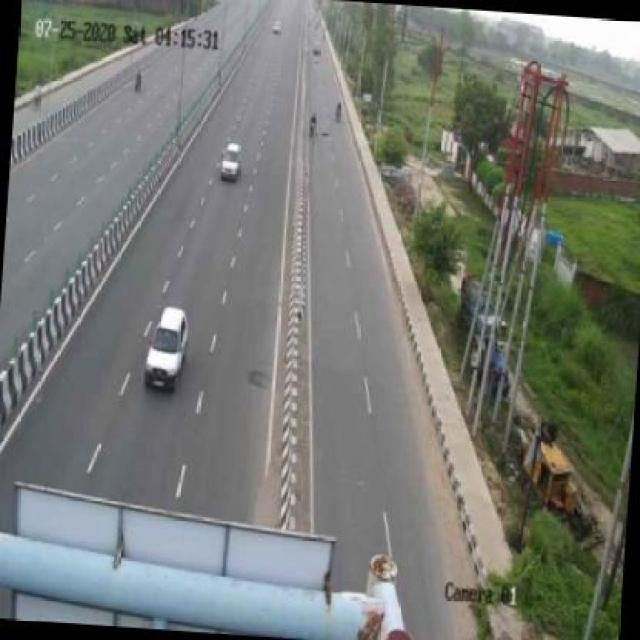car: (143, 308, 192, 394), (219, 145, 243, 183)
